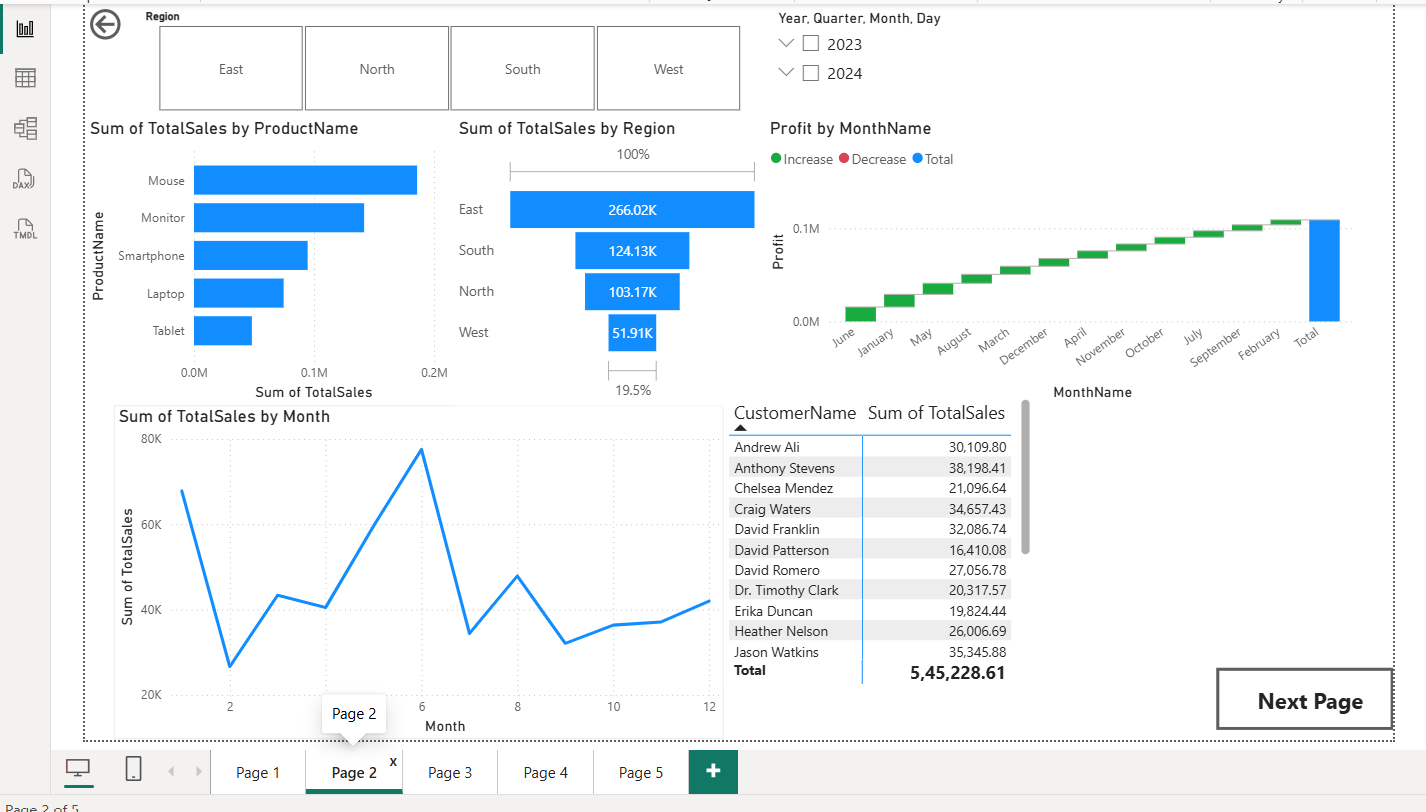

The dashboard page shown, as its layout file describes it:
{"tool":"powerbi","page":{"name":"Page 2","canvas":[1280,720],"ordinal":1},"visuals":[{"type":"barChart","fields":{"Category":["Dim_Products.ProductName"],"Y":["Sum(Fact_Sales.TotalSales)"]},"box":[0,111.3,360.7,281.4],"z":0},{"type":"lineChart","fields":{"Y":["Sum(Fact_Sales.TotalSales)"],"Category":["Dim_Date.Month"]},"box":[27.8,392.2,597.6,327.3],"z":1000},{"type":"funnel","fields":{"Category":["Dim_Customers.Region"],"Y":["Sum(Fact_Sales.TotalSales)"]},"box":[360.7,111.3,304.4,281.4],"z":2000},{"type":"waterfallChart","fields":{"Category":["Dim_Date.MonthName"],"Y":["Fact_Sales.Profit"]},"box":[665,111,583,281],"z":3000},{"type":"slicer","fields":{"Values":["Dim_Customers.Region"]},"box":[46.4,0,618.8,111.3],"z":4000},{"type":"slicer","fields":{"Values":["Dim_Date.Year Hierarchy.Year","Dim_Date.Year Hierarchy.Quarter","Dim_Date.Year Hierarchy.Month","Dim_Date.Year Hierarchy.Day"]},"box":[665.1,0,583.2,111.3],"z":5000},{"type":"actionButton","box":[1106.4,649.3,173.6,61],"z":6000},{"type":"textbox","box":[1142.2,661.2,116.6,39.8],"z":7000},{"type":"actionButton","box":[0,0,46.4,39.8],"z":8000},{"type":"pivotTable","fields":{"Rows":["Dim_Customers.CustomerName"],"Values":["Sum(Fact_Sales.TotalSales)"]},"box":[625.4,381.6,304.8,288.9],"z":10000}]}

Visuals, with their boxes on the page's 1280x720 design canvas (x1, y1, x2, y2). These are canvas units, not pixel positions in the 1426x812 screenshot, which may show the page scaled, cropped or inside an application window:
barChart - Dim_Products.ProductName x Sum(Fact_Sales.TotalSales): 0:111:361:393
lineChart - Sum(Fact_Sales.TotalSales) x Dim_Date.Month: 28:392:625:720
funnel - Dim_Customers.Region x Sum(Fact_Sales.TotalSales): 361:111:665:393
waterfallChart - Dim_Date.MonthName x Fact_Sales.Profit: 665:111:1248:392
slicer - Dim_Customers.Region: 46:0:665:111
slicer - Dim_Date.Year Hierarchy.Year x Dim_Date.Year Hierarchy.Quarter: 665:0:1248:111
actionButton: 1106:649:1280:710
textbox: 1142:661:1259:701
actionButton: 0:0:46:40
pivotTable - Dim_Customers.CustomerName x Sum(Fact_Sales.TotalSales): 625:382:930:670
